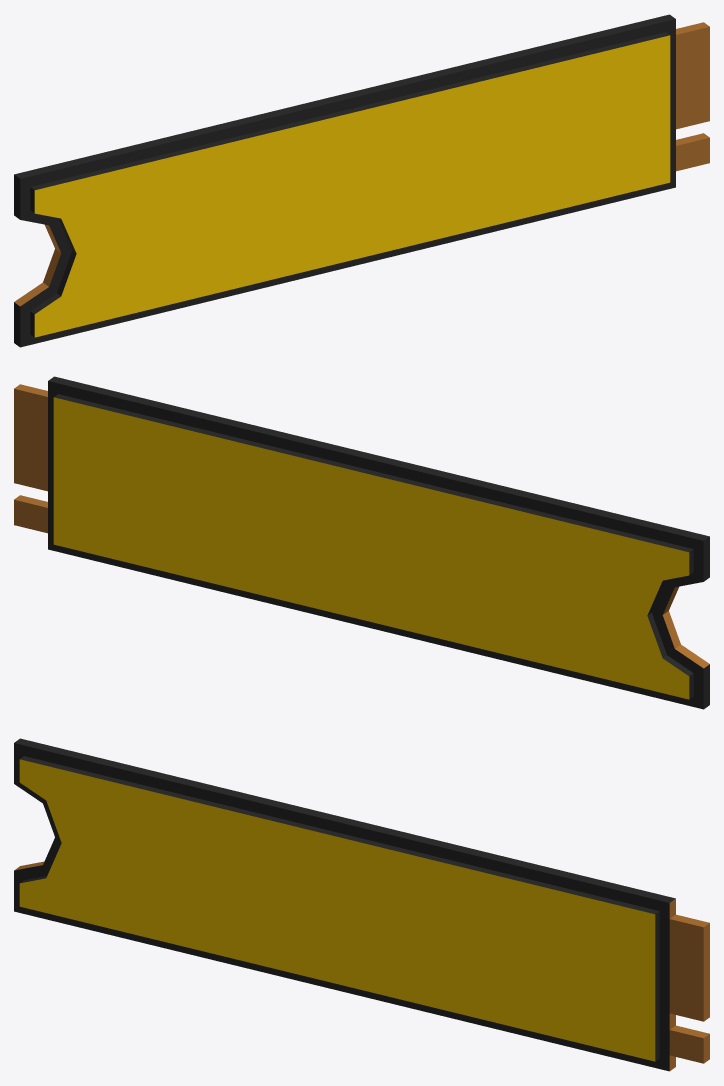
File: SSD M2.fbx
3 views of the same model, one above another, from view 1: azimuth 30°, elevation 25°; view 2: azimuth 150°, elevation 25°; view 3: azimuth 330°, elevation 25° (orthographic).
Visible parts, largest first — view 1: Cubo; view 2: Cubo; view 3: Cubo.
Boxes of the visible parts, <box> form: Cubo: <box>14,14,709,347</box>; Cubo: <box>14,376,709,709</box>; Cubo: <box>14,738,709,1071</box>.
Bounding box in the file's own units: 104 × 24.25 × 3.91.
